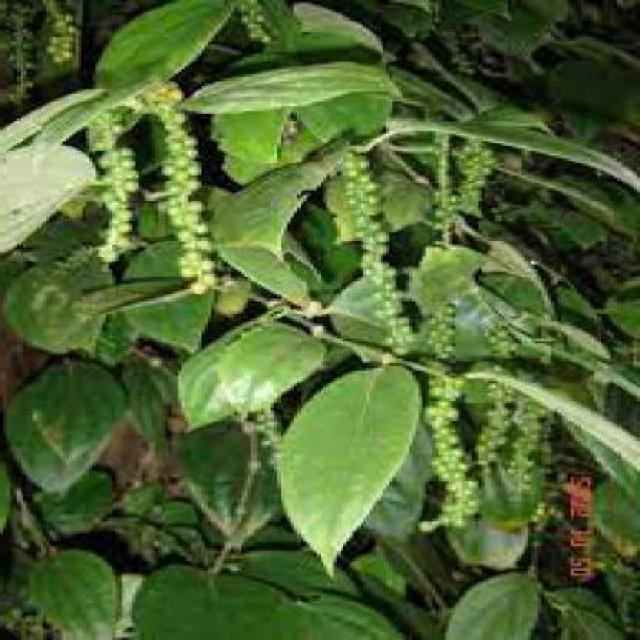UNRIPE: (165, 74, 224, 289), (426, 343, 486, 546), (356, 136, 402, 361), (445, 141, 502, 235), (110, 99, 136, 265)
